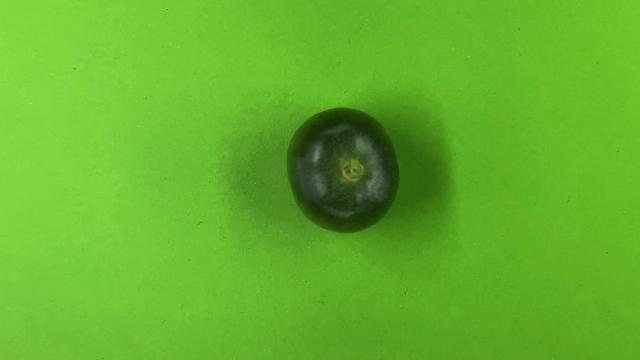Fruit Maturation: (283, 104, 404, 237)
